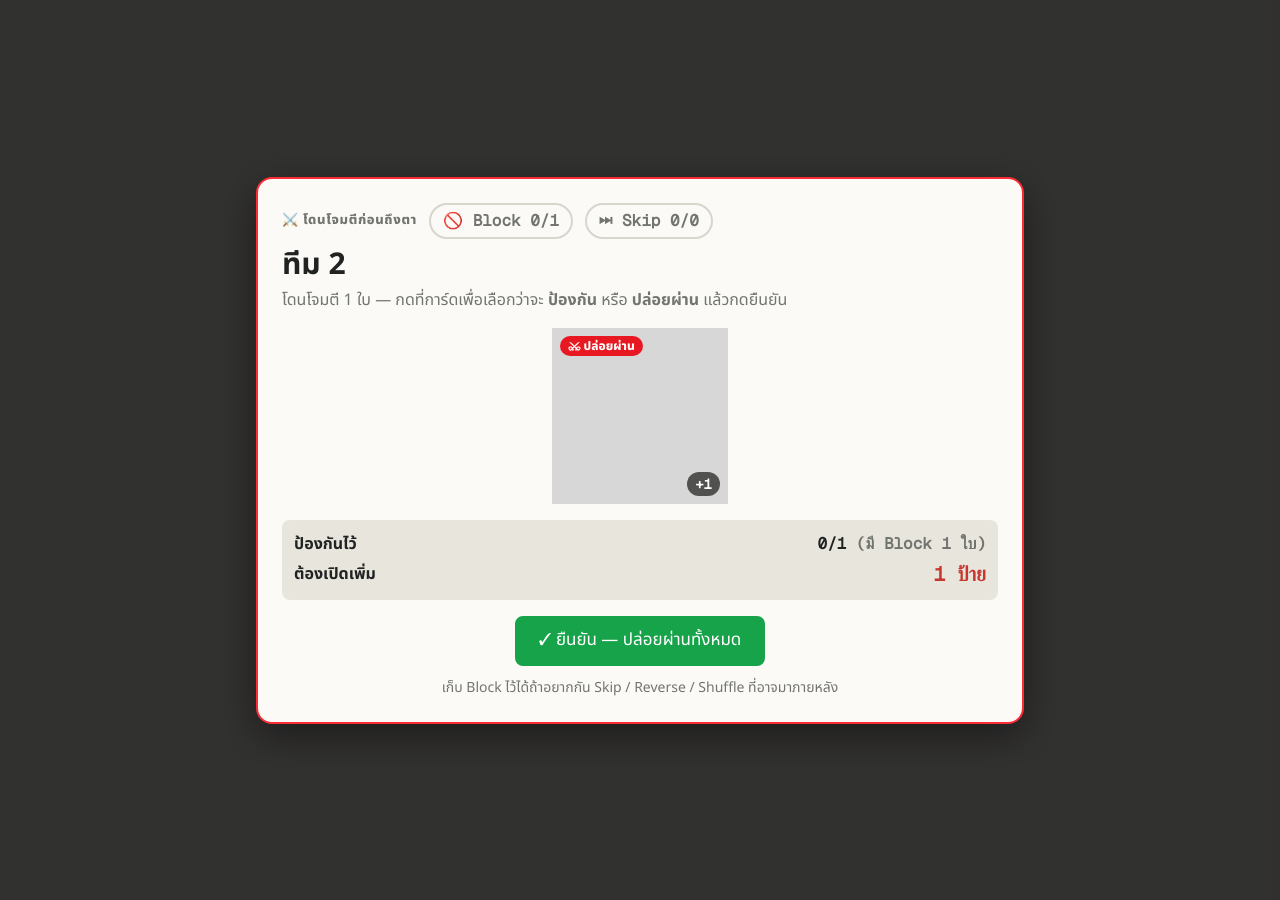
Scenario: ชุดที่สิบสอง #3: ปุ่มยืนยันบอกจำนวนที่จะป้องกัน
The image size is (1280, 900).
Expected: the button "✓ ยืนยัน — ปล่อยผ่านทั้งหมด" is shown, x1=515 y1=616 x2=765 y2=666
Click the button named "Attack".
click(640, 416)  # box x1=552 y1=328 x2=728 y2=504
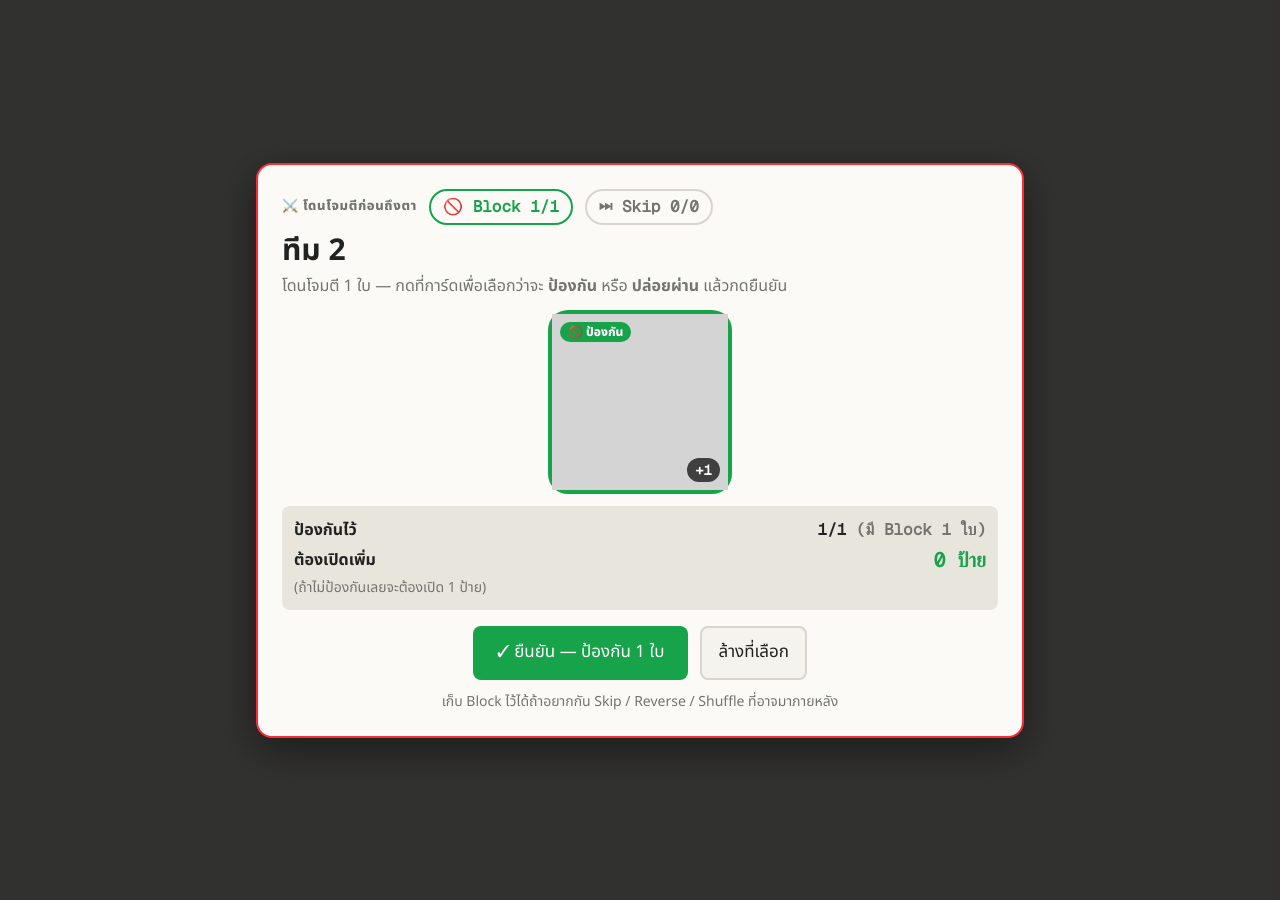
Result: the button "✓ ยืนยัน — ป้องกัน 1 ใบ" is shown at x1=473 y1=626 x2=688 y2=680
